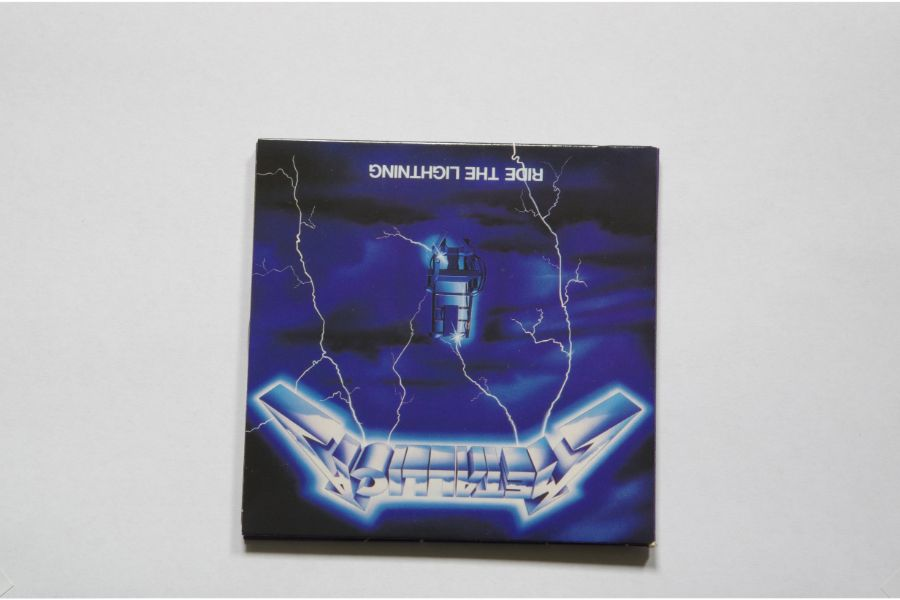album: (239, 139, 660, 547)
